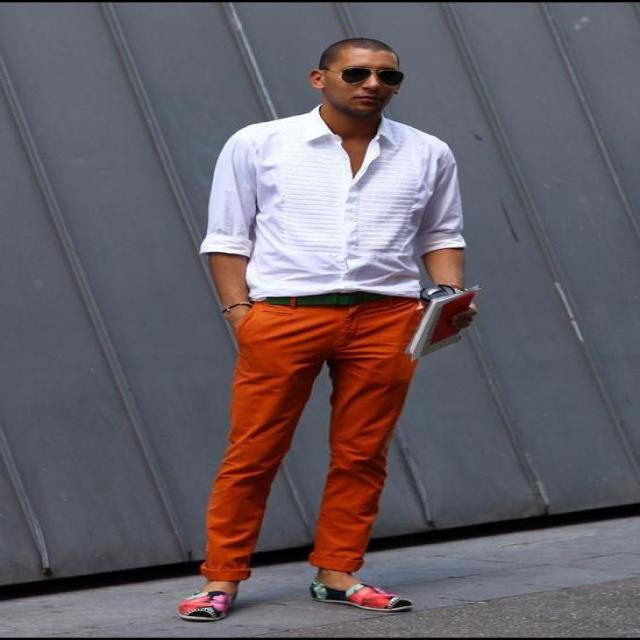pants: (199, 290, 424, 580)
shirt: (203, 101, 470, 302)
